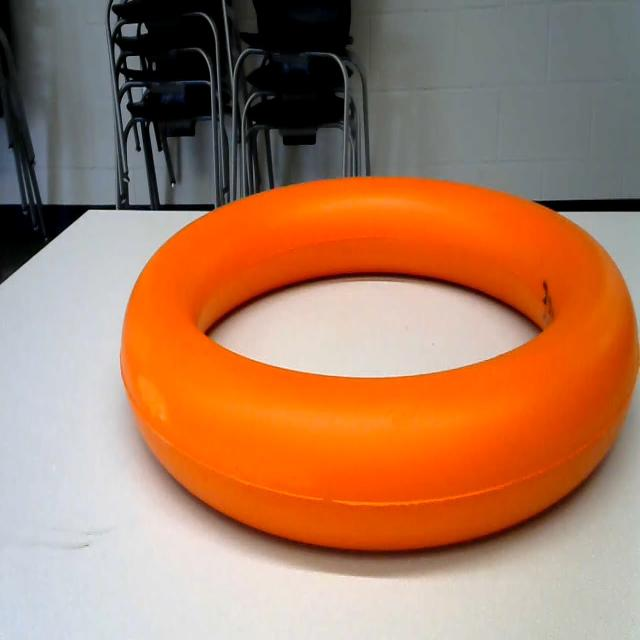note: (101, 166, 640, 578)
